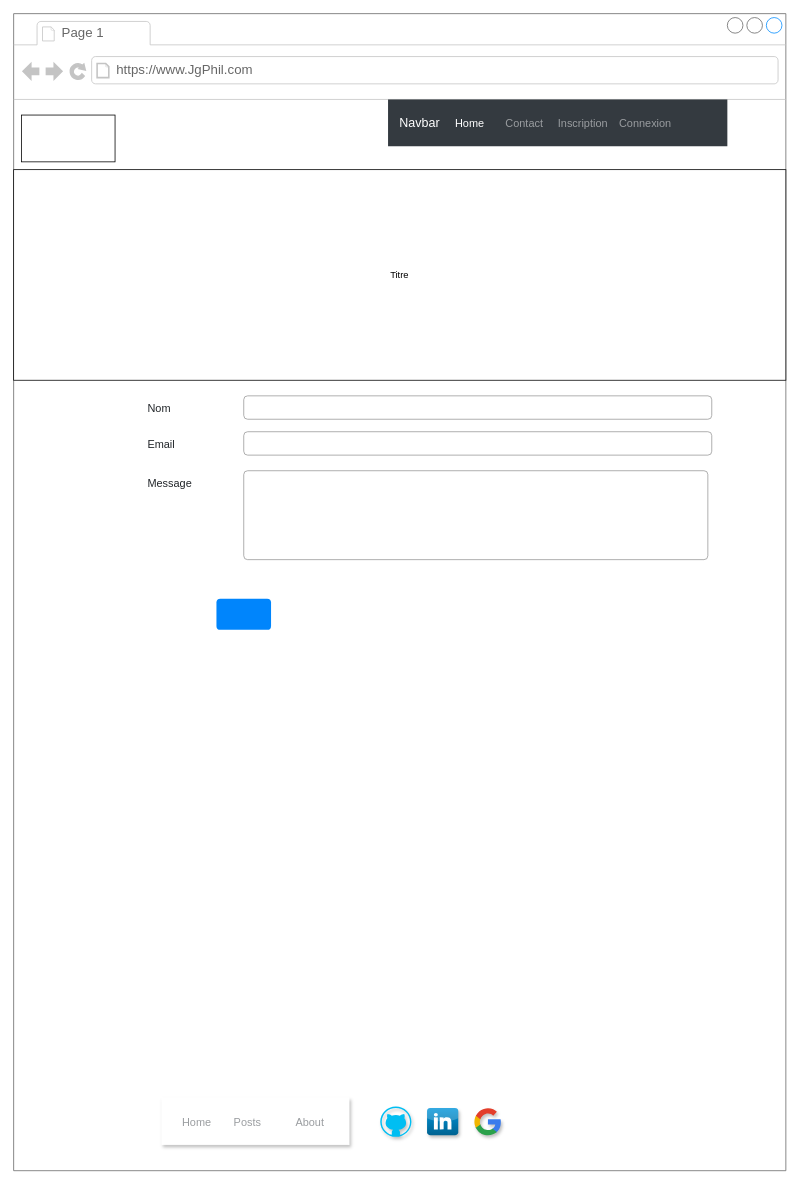
This 800x1185 diagram has some shape labels left out. Here are the shapes that lost their labels. From the top down, the centre of each, then its label:
At point (68, 138): "LOGO".
At point (243, 613): "Sign in".
